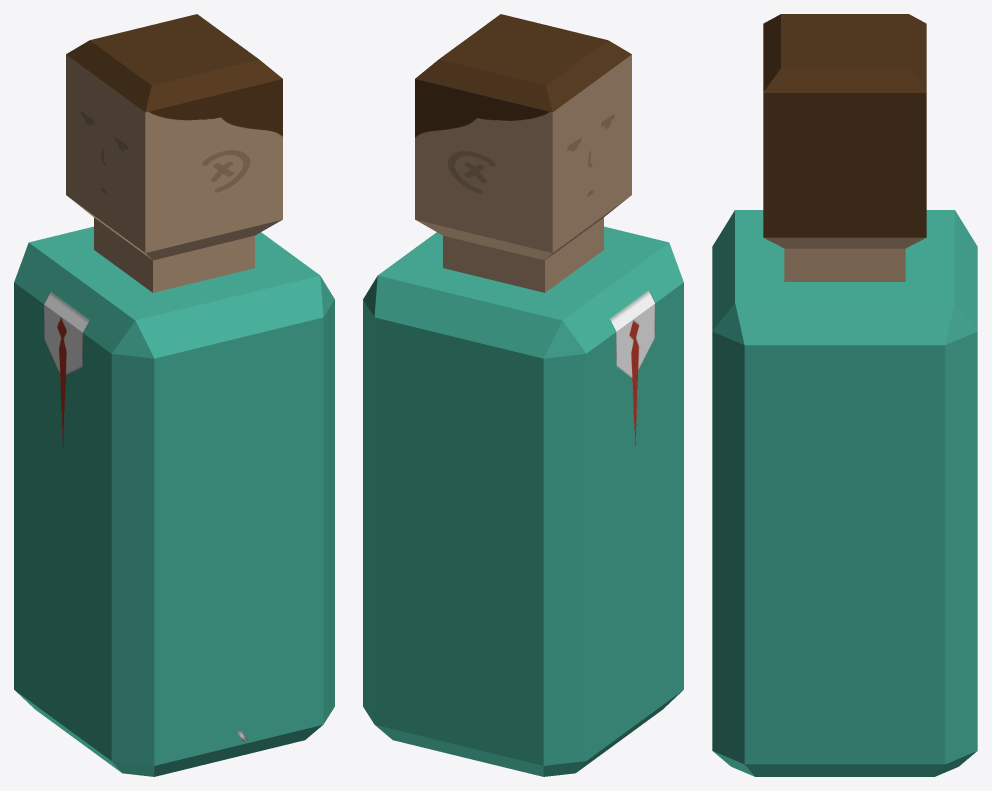
Rendered from jury3.glb.
3 views of the same model, side by side, from view 1: azimuth 30°, elevation 25°; view 2: azimuth 150°, elevation 25°; view 3: azimuth 270°, elevation 25° (orthographic). The views are drawn at different scales.
Parts seen in each view (by area): view 1: Cube.002; view 2: Cube.002; view 3: Cube.002.
Part boxes in pixels (bbox=[...]): Cube.002: bbox=[14, 14, 334, 776]; Cube.002: bbox=[363, 14, 683, 776]; Cube.002: bbox=[712, 14, 977, 776].
Size of the model in its own units: 0.6964 by 1.99 by 0.6964.
1 material, 1 textured.
